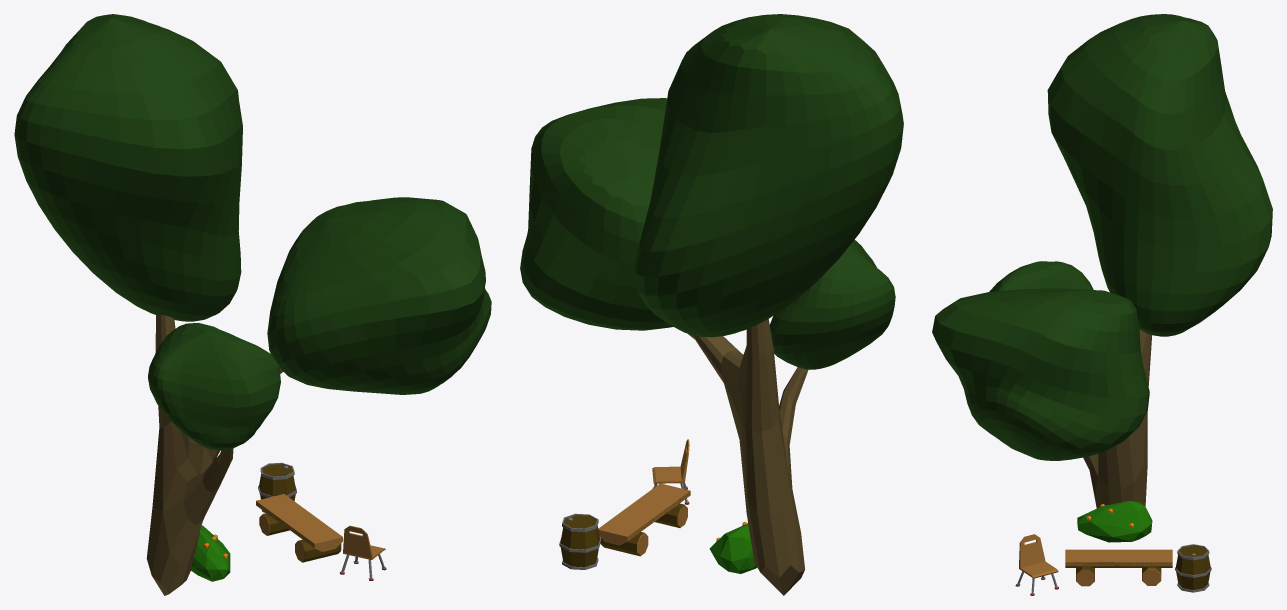
The model's file is Bochka.fbx.
3 views of the same model, side by side, from view 1: azimuth 30°, elevation 25°; view 2: azimuth 150°, elevation 25°; view 3: azimuth 270°, elevation 25° (orthographic). The views are drawn at different scales.
Visible parts, largest first — view 1: Окружность.001, Куб, Икосфера, Окружность, Куб.001; view 2: Окружность.001, Куб, Окружность, Икосфера, Куб.001; view 3: Окружность.001, Куб, Икосфера, Окружность, Куб.001.
Part boxes in pixels (left/top/right/bottom): Окружность.001: left=14, top=14, right=491, bottom=595; Куб: left=256, top=494, right=342, bottom=562; Икосфера: left=191, top=525, right=230, bottom=581; Окружность: left=258, top=462, right=296, bottom=512; Куб.001: left=340, top=525, right=386, bottom=580; Окружность.001: left=520, top=14, right=903, bottom=595; Куб: left=598, top=483, right=690, bottom=556; Окружность: left=559, top=513, right=600, bottom=569; Икосфера: left=709, top=521, right=756, bottom=573; Куб.001: left=652, top=439, right=689, bottom=504; Окружность.001: left=932, top=14, right=1272, bottom=508; Куб: left=1065, top=549, right=1172, bottom=586; Икосфера: left=1077, top=501, right=1152, bottom=542; Окружность: left=1175, top=544, right=1211, bottom=592; Куб.001: left=1015, top=534, right=1058, bottom=595.
Bounding box in the file's own units: 2808 × 3760 × 2280.
Materials: 3 (3 with a texture image).
